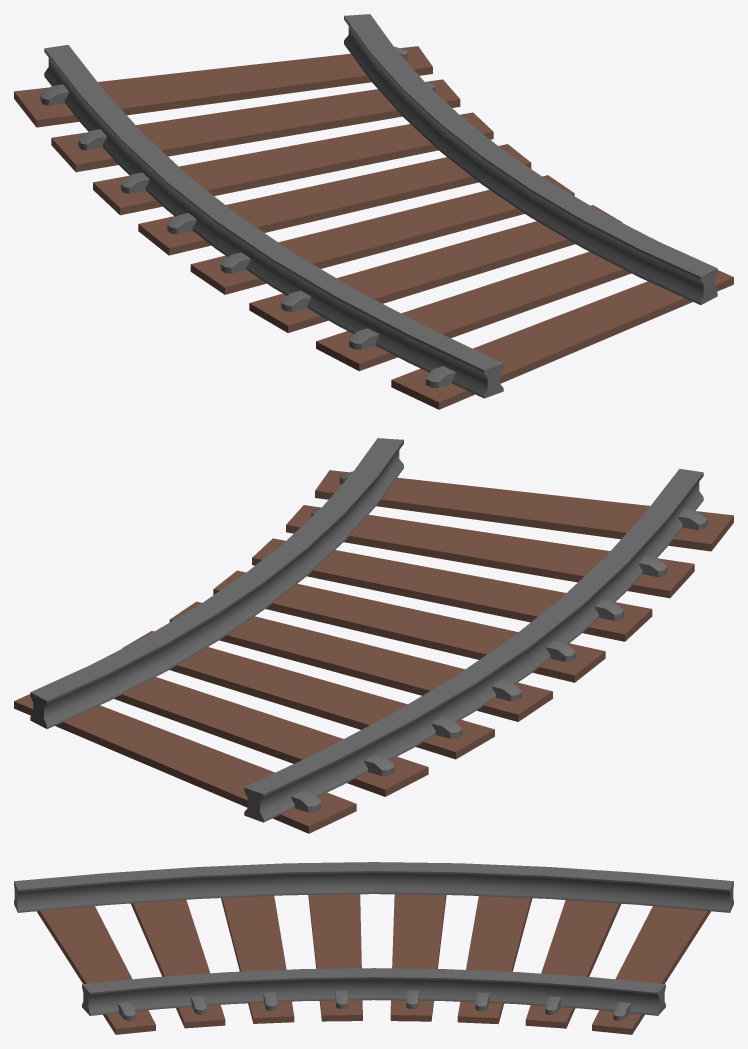
Rendered from Trilho_curva_longa_aberta.fbx.
The picture shows the model from 3 angles, top to bottom: view 1: azimuth 30°, elevation 25°; view 2: azimuth 150°, elevation 25°; view 3: azimuth 270°, elevation 25°; orthographic projection. The views are drawn at different scales.
Parts seen in each view (by area): view 1: Trilho_curva_longa_aberta; view 2: Trilho_curva_longa_aberta; view 3: Trilho_curva_longa_aberta.
Part boxes in pixels (bbox=[...]): Trilho_curva_longa_aberta: bbox=[14, 14, 733, 409]; Trilho_curva_longa_aberta: bbox=[14, 438, 733, 833]; Trilho_curva_longa_aberta: bbox=[14, 862, 733, 1034].
Size of the model in its own units: 223 by 19.27 by 430.
